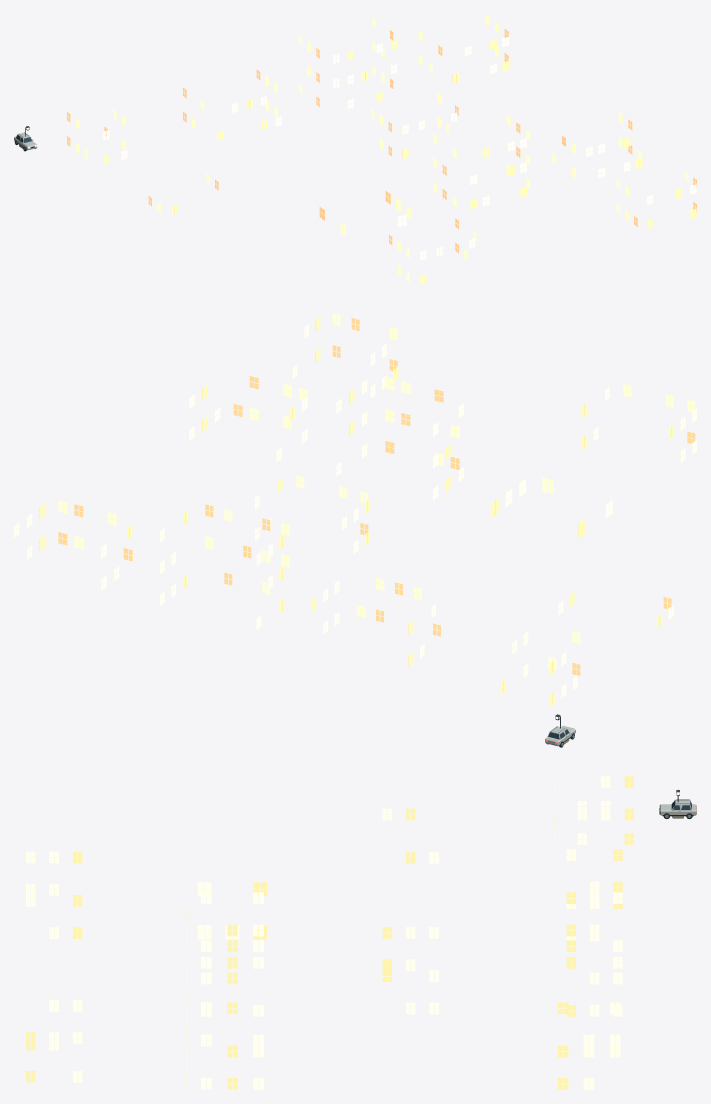
The model's file is street-kit.glb.
3 views of the same model, one above another, from view 1: azimuth 30°, elevation 25°; view 2: azimuth 150°, elevation 25°; view 3: azimuth 270°, elevation 25° (orthographic). The views are drawn at different scales.
Visible parts, largest first — view 1: batch-evening-windows-window, batch-evening-windows-window_dim; view 2: batch-evening-windows-window, batch-evening-windows-window_dim; view 3: batch-evening-windows-window, batch-evening-windows-window_dim.
Part boxes in pixels (x1=…): batch-evening-windows-window: x1=75, y1=14, x2=696, y2=282; batch-evening-windows-window_dim: x1=67, y1=29, x2=696, y2=284; batch-evening-windows-window: x1=14, y1=313, x2=696, y2=697; batch-evening-windows-window_dim: x1=39, y1=316, x2=695, y2=706; batch-evening-windows-window: x1=26, y1=776, x2=622, y2=1089; batch-evening-windows-window_dim: x1=26, y1=776, x2=633, y2=1089.
Bounding box in the file's own units: 61.39 × 8.74 × 61.29.
